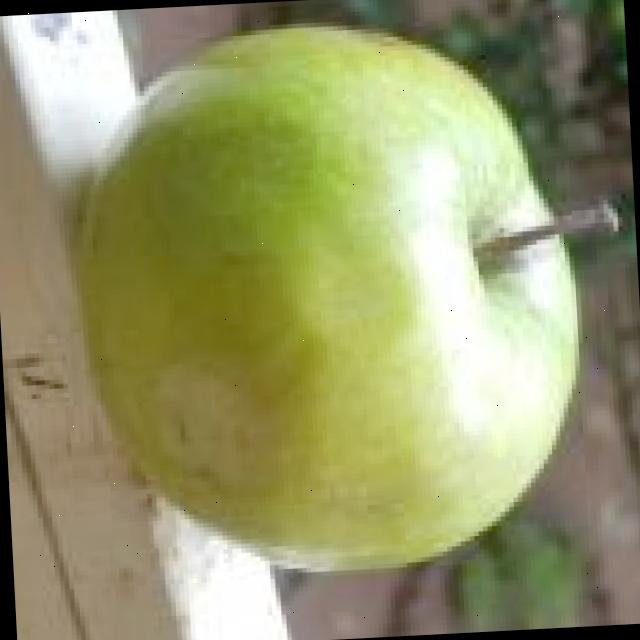Good_Apple 10-21 days: (81, 29, 617, 569)
